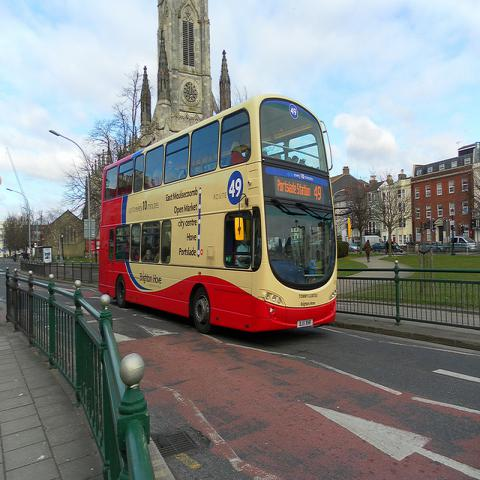bus: (98, 95, 336, 334)
car: (454, 236, 478, 253), (419, 242, 444, 253), (391, 242, 404, 253), (371, 243, 386, 252), (349, 243, 360, 253), (18, 252, 29, 260)
